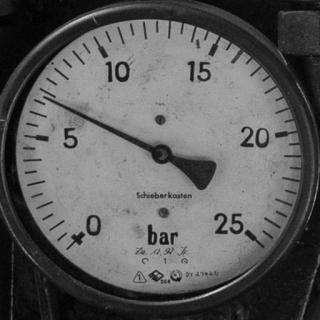gauge: (0, 0, 320, 320), (61, 215, 99, 255), (230, 213, 264, 247), (151, 142, 173, 166), (38, 90, 56, 104)
